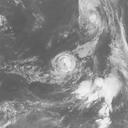cyclone: (88, 73, 120, 106), (79, 2, 106, 34), (51, 51, 81, 79)
